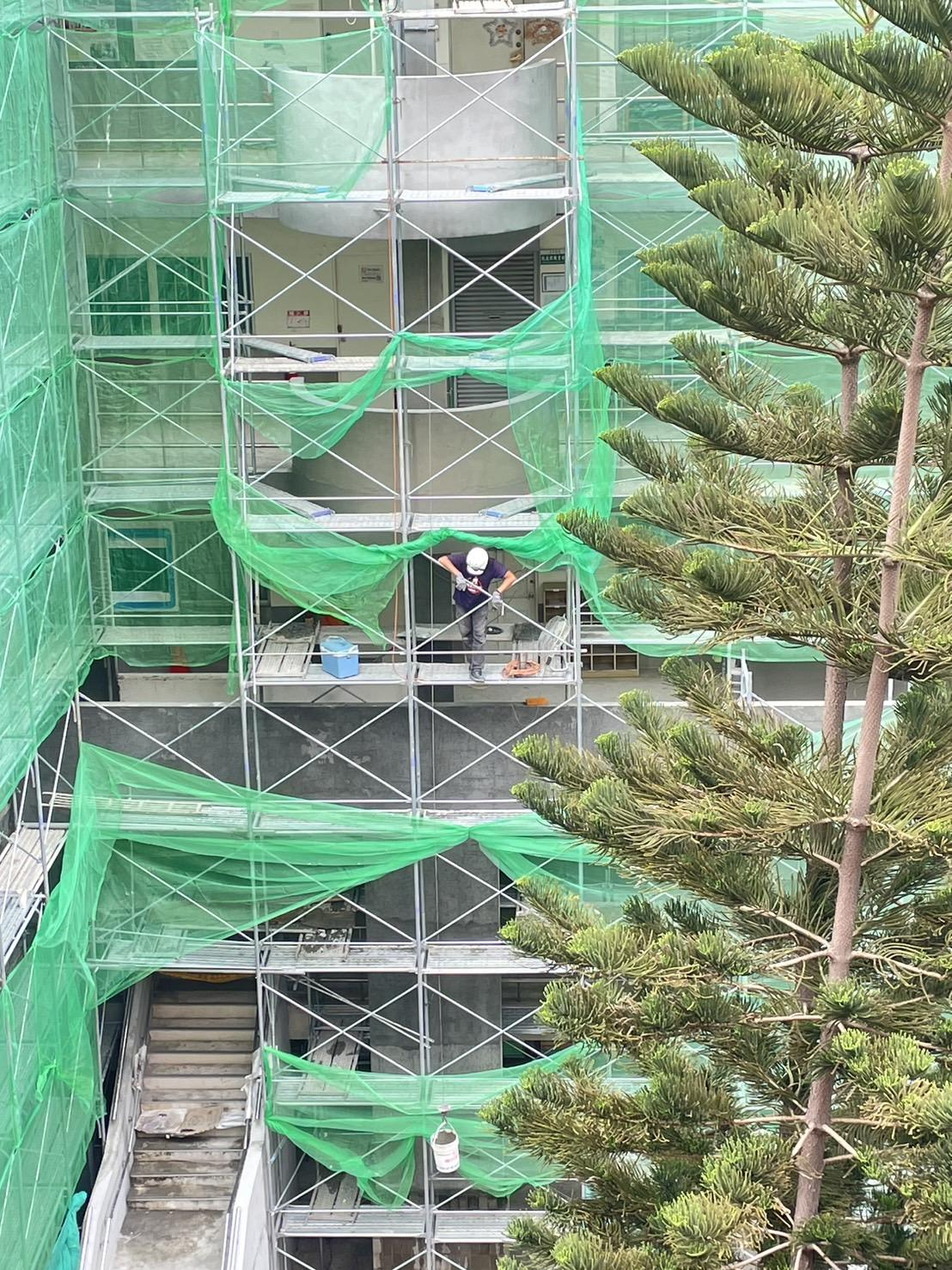Helmet: (464, 547, 489, 575)
